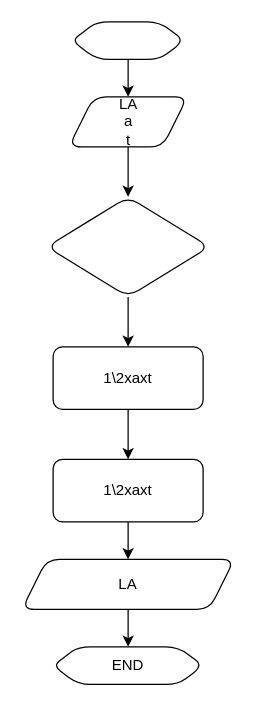
Image size: 256x706. Some labels were removed from this diagram. Each missing label, with the centre of its shape:
"LA=1\2xax1" goes at [127,246].
"START" goes at [127,40].
